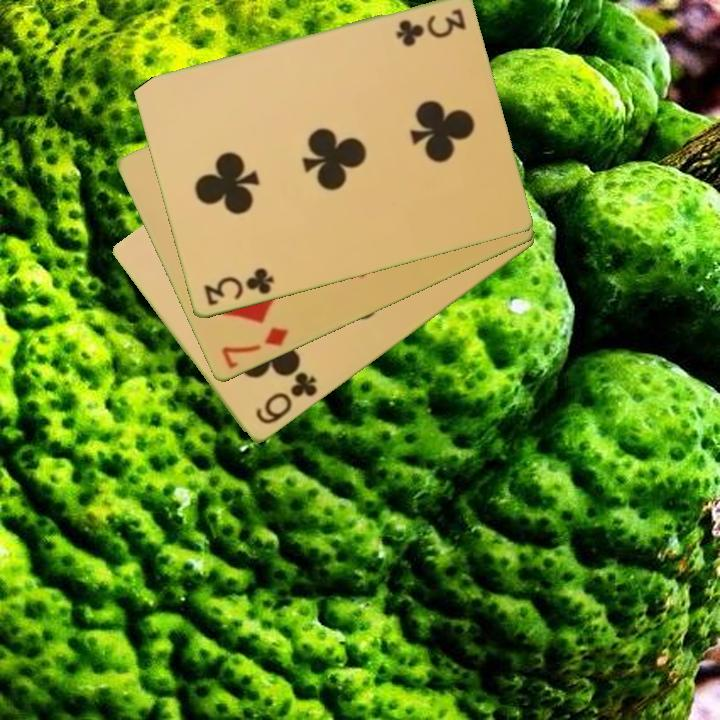3c: (200, 264, 277, 309), (391, 5, 469, 48)
6c: (251, 369, 321, 428)
7d: (218, 324, 291, 372)
